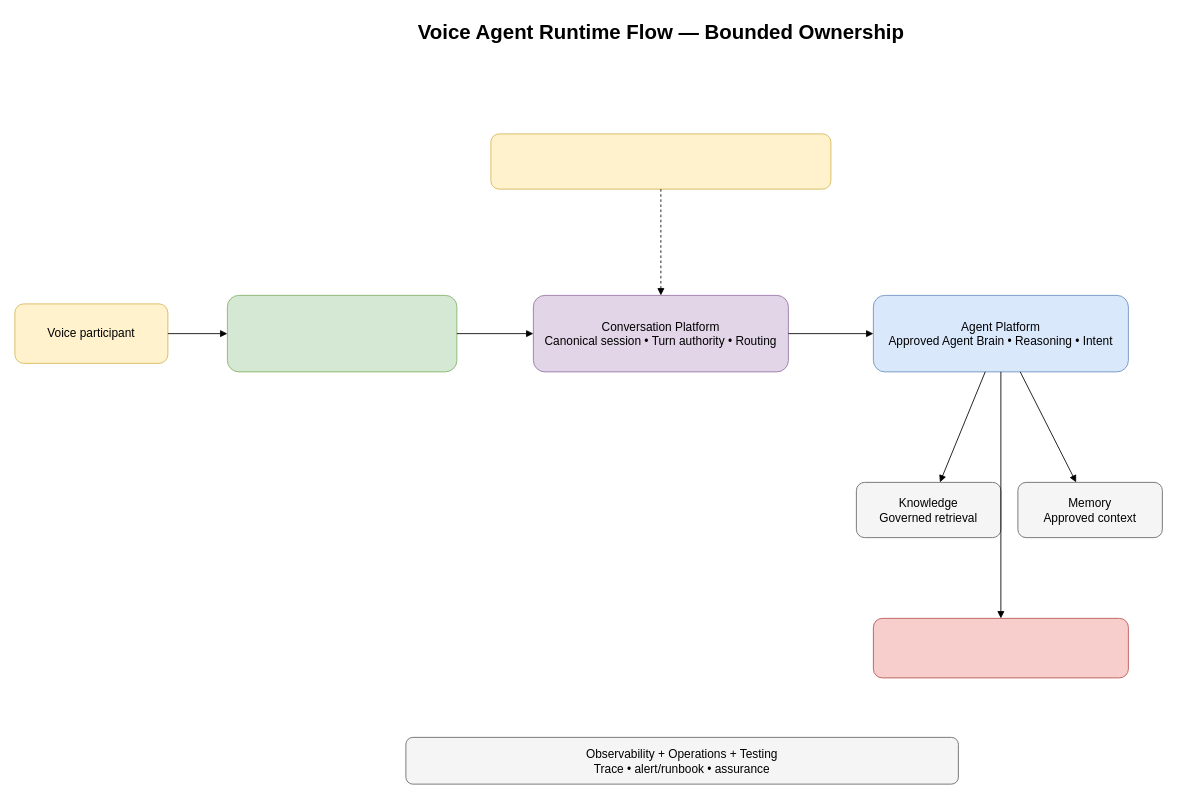
This 1177x799 diagram has some shape labels left out. Here are the shapes that lost their labels. From the top down, the box of each, then its label:
(490, 133, 831, 189): Security + Foundation Trusted tenant • identity • authorization
(227, 295, 457, 372): Voice Platform Call • Media • STT/TTS • Interruption
(873, 618, 1128, 678): Integration Platform Authorized external action
